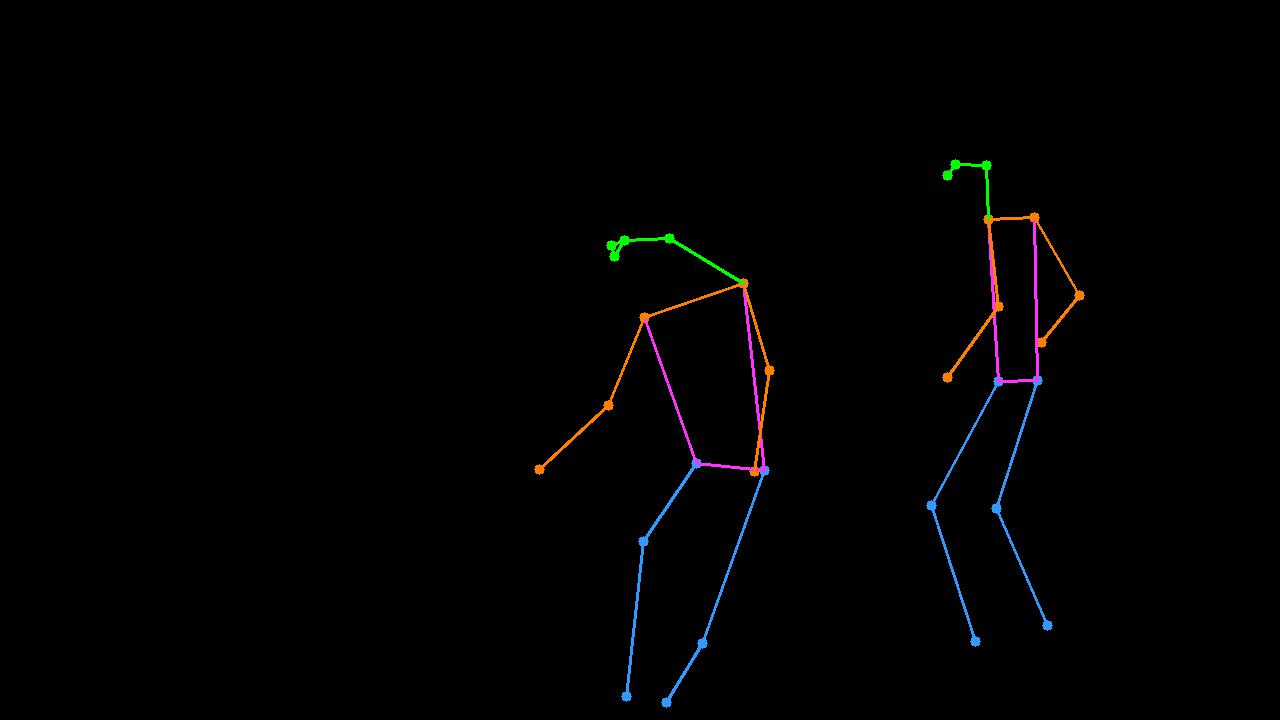normal: (486, 183, 813, 718), (902, 121, 1089, 696)
